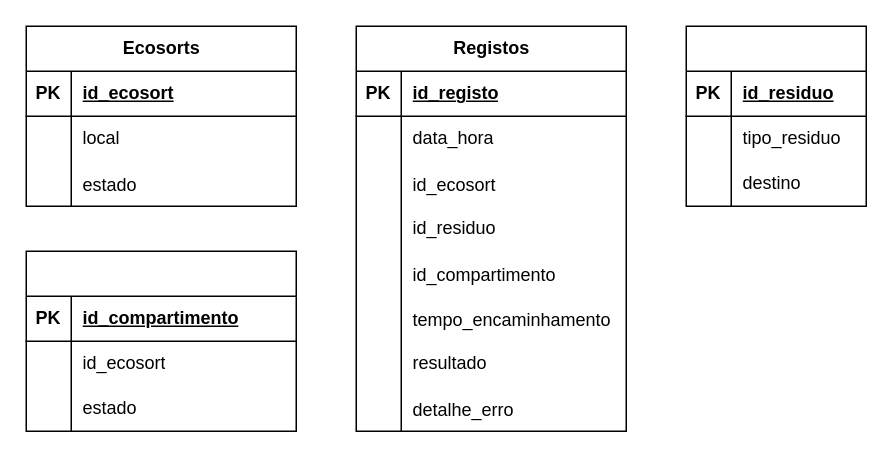
The diagram is 893 pixels wide and 458 high, and some of its shapes have lost their labels. The box of each missing label's shape, as (x1, y1, x2, y2) in pixels:
Compartimentos: (25, 250, 296, 431)
Residuos: (685, 25, 866, 206)
